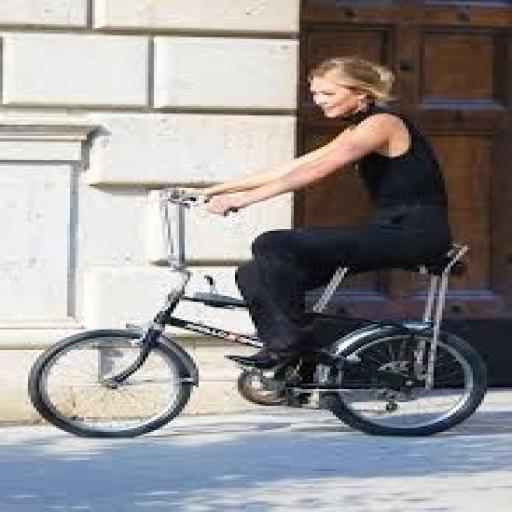cycling: (182, 54, 459, 387)
